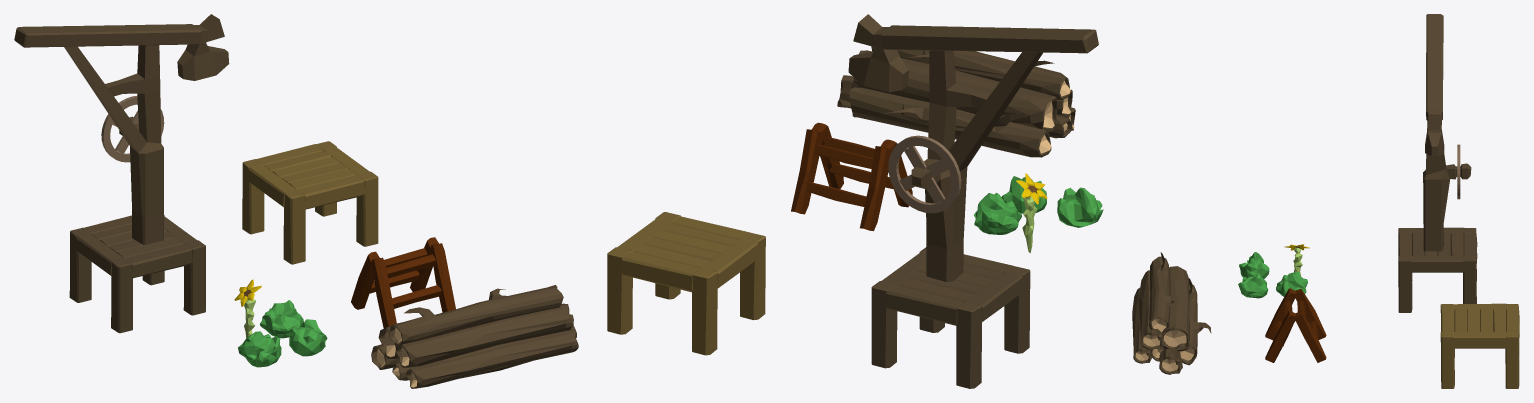
File: Additional.fbx
3 renders of one model, left to right at view 1: azimuth 30°, elevation 25°; view 2: azimuth 150°, elevation 25°; view 3: azimuth 270°, elevation 25°, orthographic. The views are drawn at different scales.
Parts seen in each view (by area): view 1: Lumber Crane, Log_clean.003, Working bench, Log Stand, Crop3, Crop1, Crop2, Crop4; view 2: Lumber Crane, Working bench, Log_clean.003, Log Stand, Crop1, Crop3, Crop4, Crop2; view 3: Lumber Crane, Log_clean.003, Working bench, Log Stand, Crop2, Crop3, Crop1.
Part boxes in pixels (bbox=[...]): Lumber Crane: bbox=[14, 14, 229, 333]; Log_clean.003: bbox=[371, 285, 578, 388]; Working bench: bbox=[242, 141, 378, 264]; Log Stand: bbox=[351, 237, 455, 328]; Crop3: bbox=[238, 331, 281, 367]; Crop1: bbox=[260, 300, 303, 338]; Crop2: bbox=[289, 319, 327, 356]; Crop4: bbox=[234, 279, 261, 337]; Lumber Crane: bbox=[848, 14, 1098, 388]; Working bench: bbox=[607, 212, 765, 355]; Log_clean.003: bbox=[837, 46, 1075, 157]; Log Stand: bbox=[791, 122, 912, 231]; Crop1: bbox=[974, 192, 1021, 234]; Crop3: bbox=[1057, 187, 1103, 227]; Crop4: bbox=[1016, 173, 1047, 253]; Crop2: bbox=[1001, 176, 1046, 213]; Lumber Crane: bbox=[1398, 14, 1477, 312]; Log_clean.003: bbox=[1132, 252, 1211, 374]; Working bench: bbox=[1440, 303, 1519, 388]; Log Stand: bbox=[1265, 288, 1326, 362]; Crop2: bbox=[1238, 272, 1268, 298]; Crop3: bbox=[1239, 252, 1269, 278]; Crop1: bbox=[1276, 272, 1307, 296].
Bounding box in the file's own units: 1060 × 802 × 1183.
